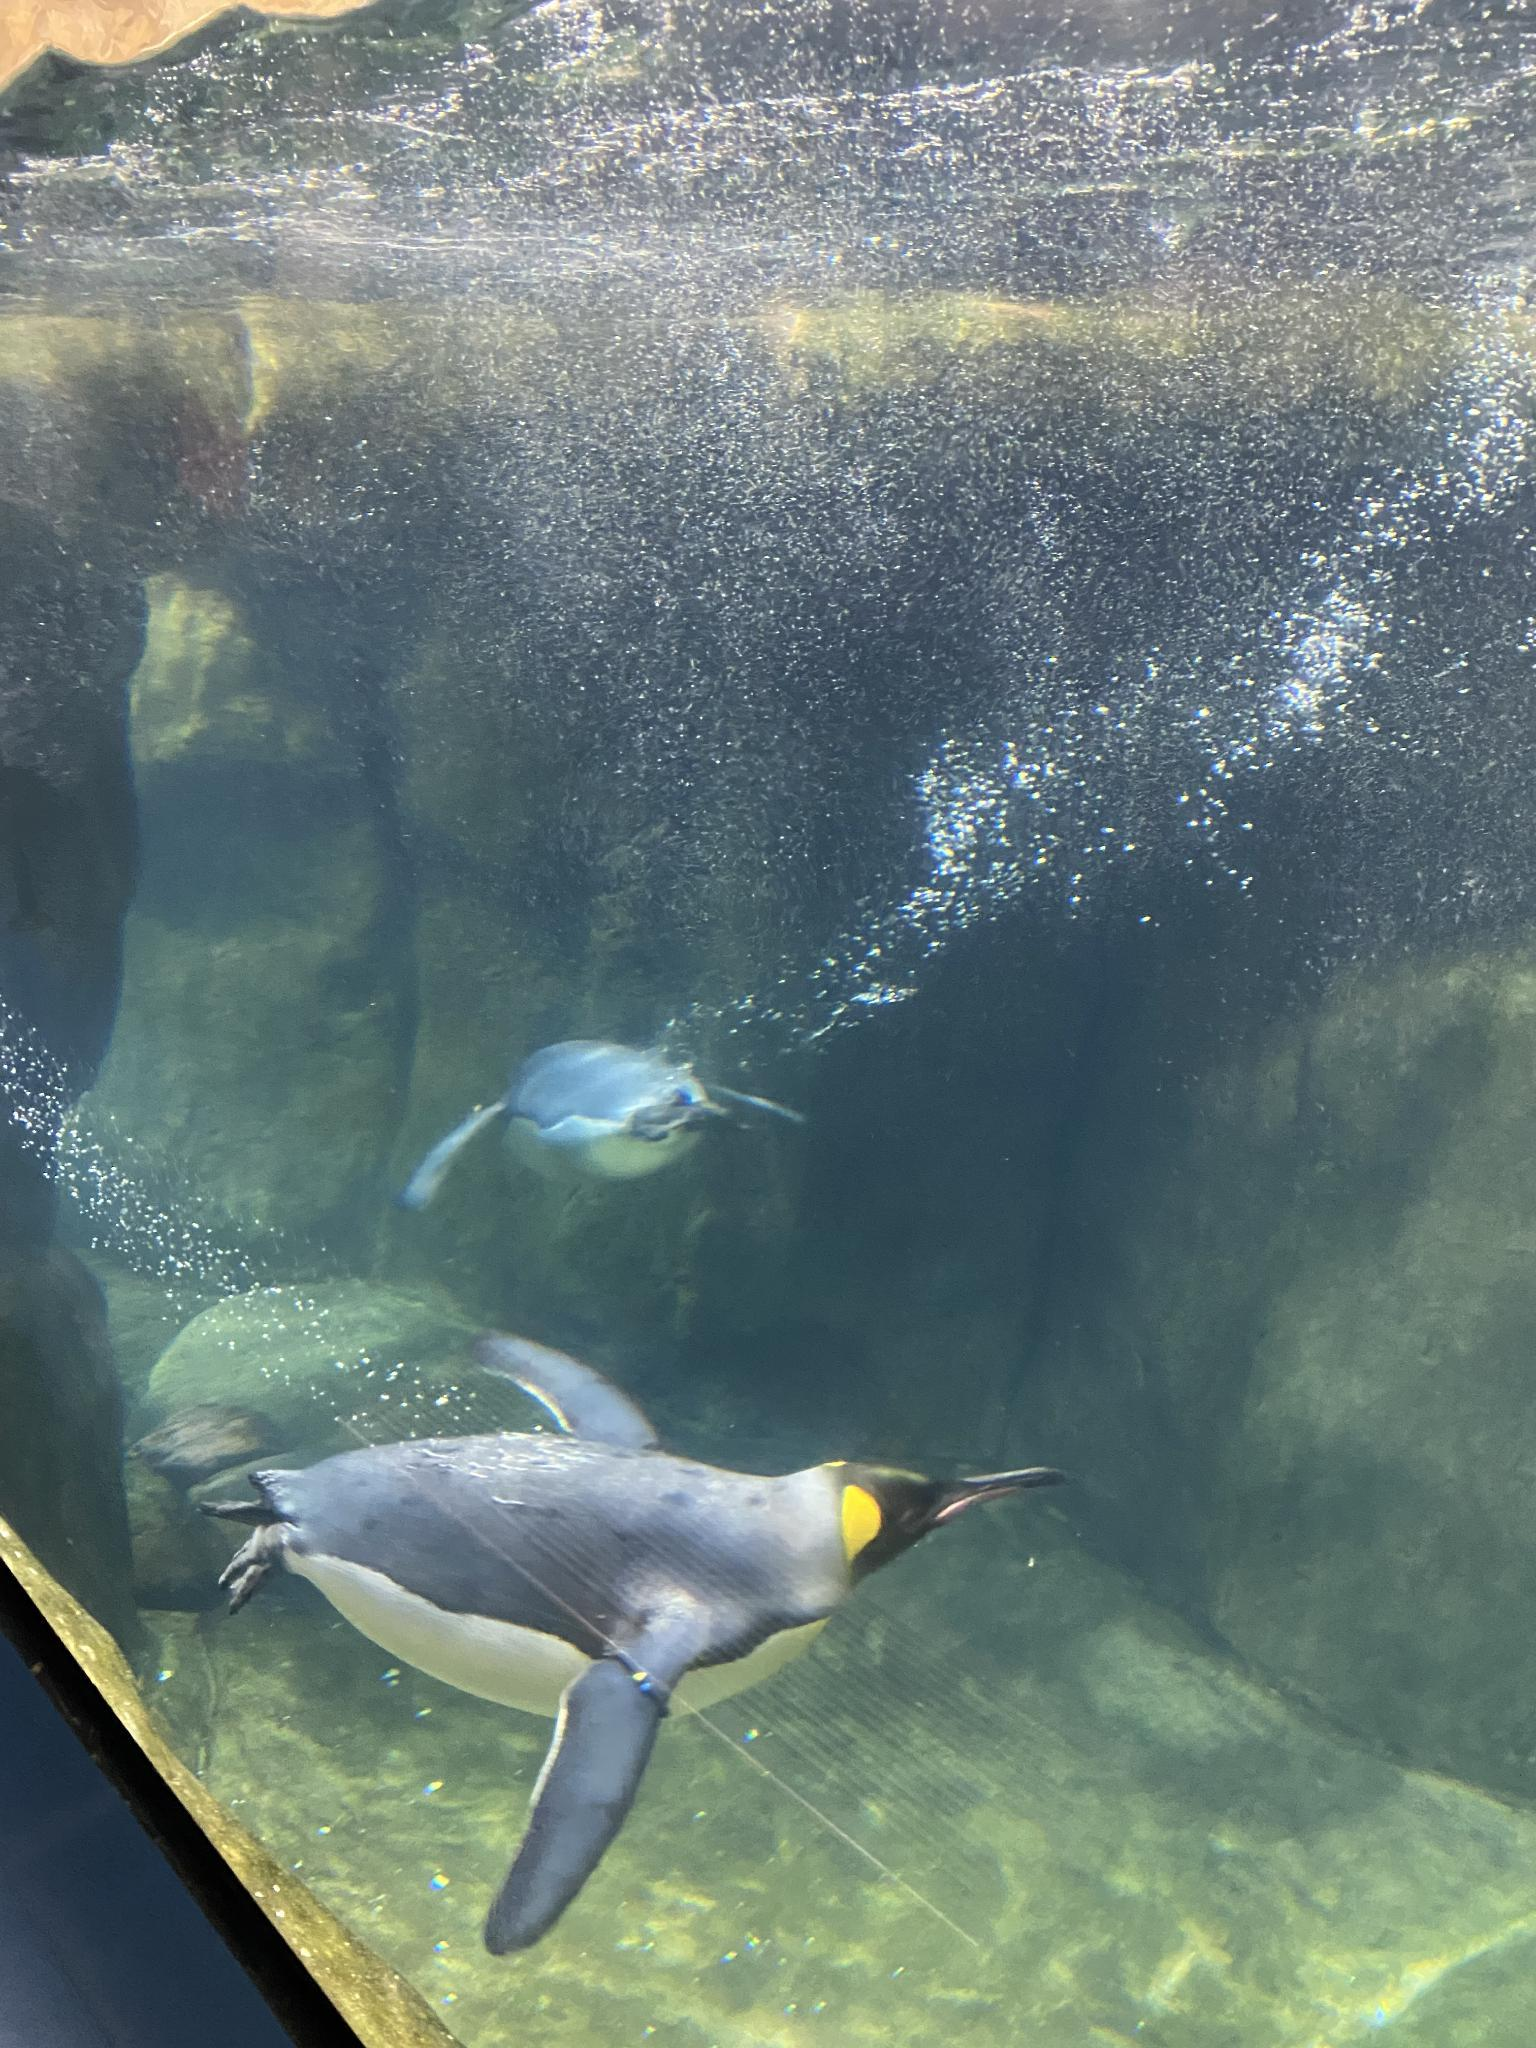penguin: (191, 1332, 1076, 1958), (403, 1038, 806, 1231)
